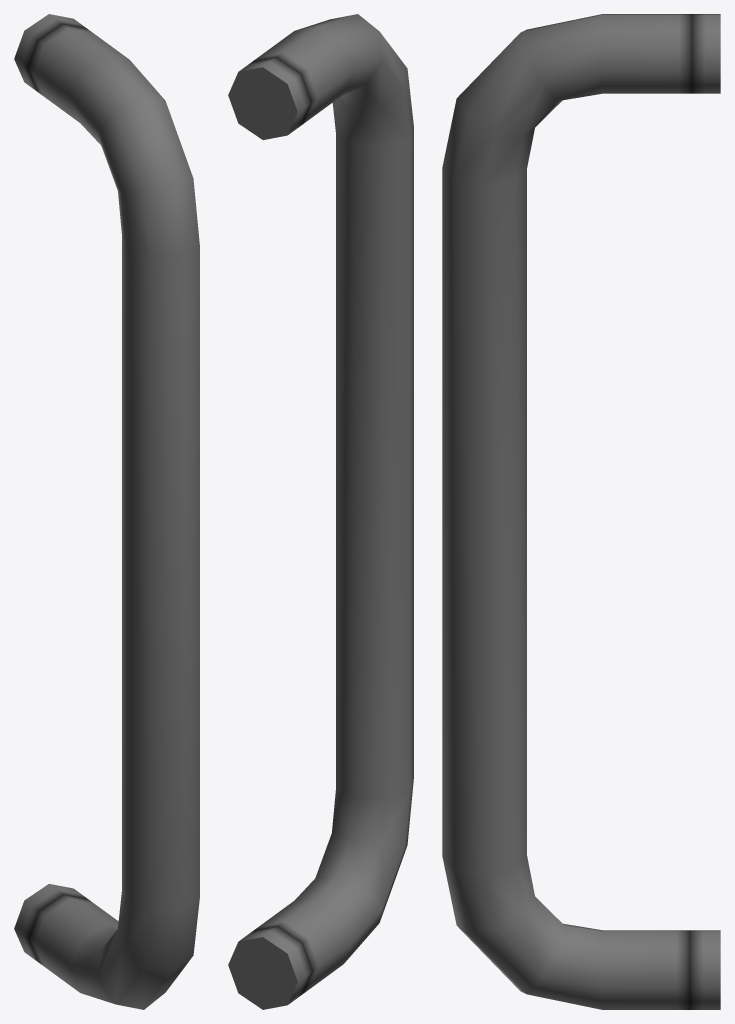
The model's file is dub_door_handle_chrome_lod0.glb.
The picture shows the model from 3 angles, left to right: view 1: azimuth 30°, elevation 25°; view 2: azimuth 150°, elevation 25°; view 3: azimuth 270°, elevation 25°; orthographic projection. The views are drawn at different scales.
Parts seen in each view (by area): view 1: surf0; view 2: surf0; view 3: surf0.
Boxes of the visible parts, <box> form: surf0: <box>14,14,199,1009</box>; surf0: <box>228,14,413,1009</box>; surf0: <box>442,14,720,1009</box>.
Size of the model in its own units: 1.33 by 17.14 by 4.36.
